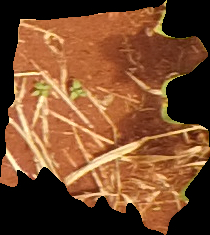soil: (1, 1, 210, 234)
